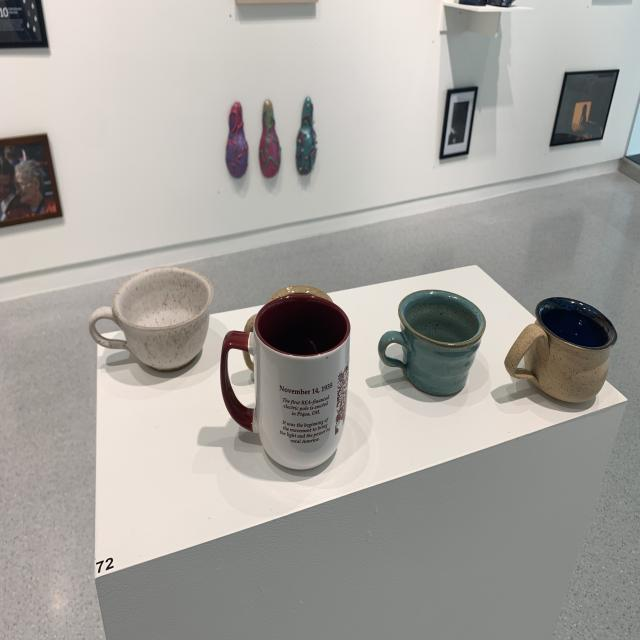Cup: (220, 282, 357, 482), (83, 264, 215, 379), (506, 293, 618, 413), (376, 283, 486, 403)
